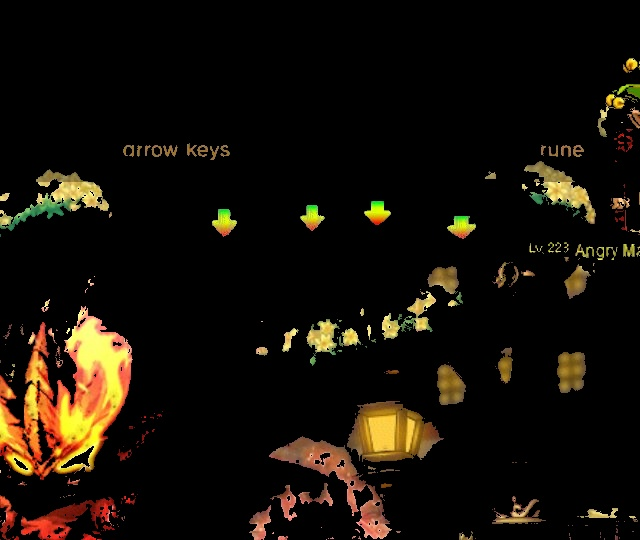down: (357, 192, 400, 234), (203, 201, 243, 244), (440, 209, 484, 247), (294, 198, 331, 238)
